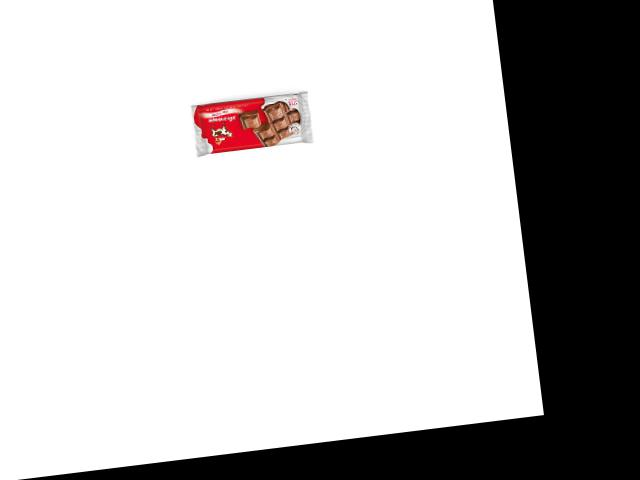chocolate: (189, 90, 317, 158)
